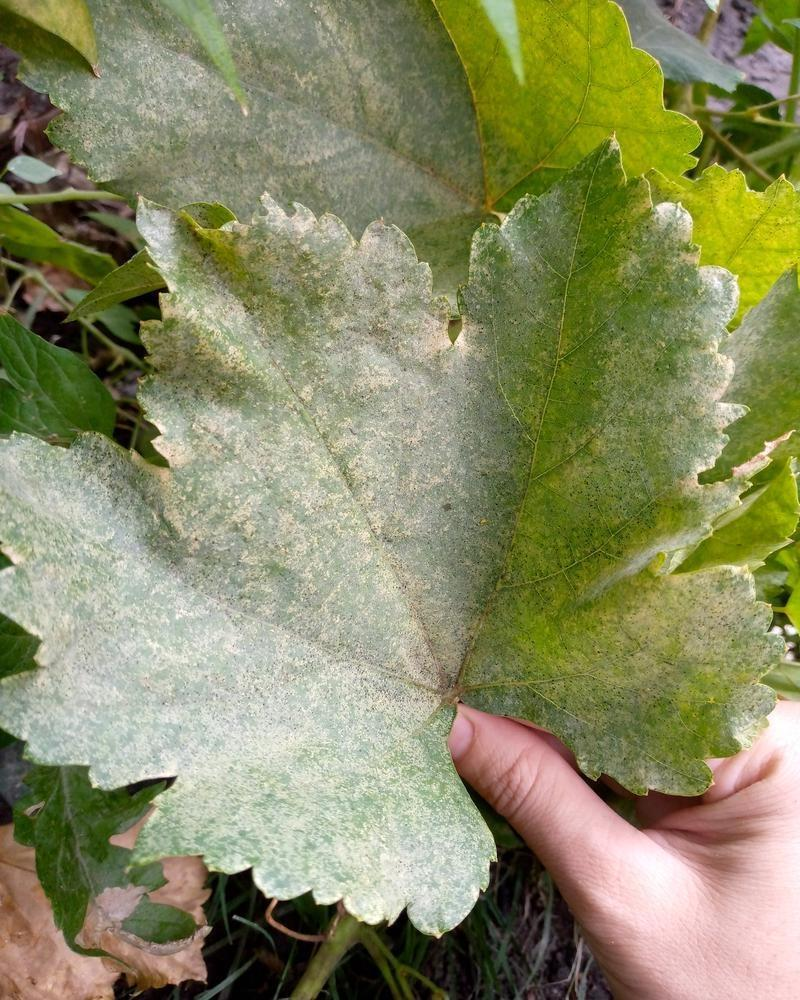Powdery-Mildew: (143, 623, 350, 798), (397, 301, 476, 380), (136, 415, 215, 494), (35, 479, 114, 558), (396, 627, 475, 706), (39, 672, 118, 751)
